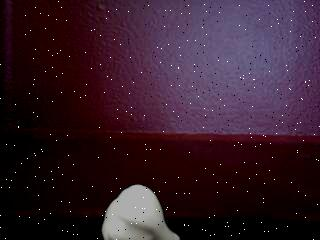Garlic: (99, 183, 182, 240)
